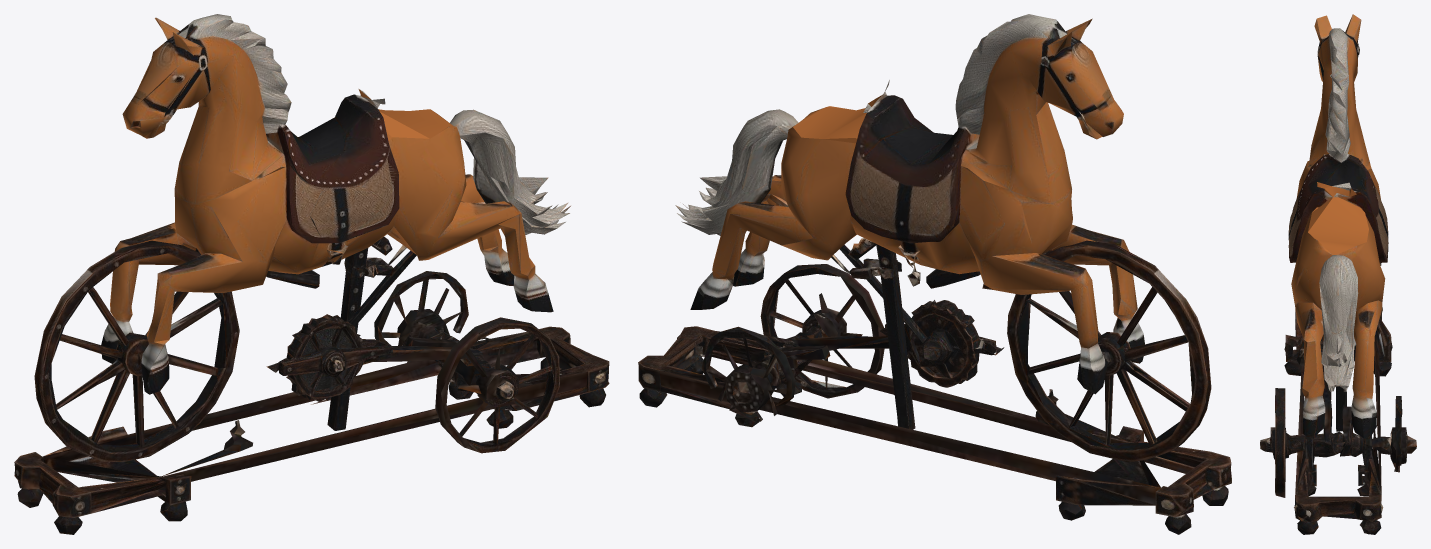
File: mj-gym-electric-horse.glb
The picture shows the model from 3 angles, left to right: view 1: azimuth 30°, elevation 25°; view 2: azimuth 150°, elevation 25°; view 3: azimuth 270°, elevation 25°; orthographic projection. The views are drawn at different scales.
Visible parts, largest first — view 1: mj-gym-electric-horse; view 2: mj-gym-electric-horse; view 3: mj-gym-electric-horse.
Part boxes in pixels (bbox=[...]): mj-gym-electric-horse: bbox=[14, 14, 609, 534]; mj-gym-electric-horse: bbox=[638, 14, 1231, 534]; mj-gym-electric-horse: bbox=[1260, 14, 1416, 534].
Size of the model in its own units: 1.84 by 1.5 by 0.5803.
Materials: 1 (1 with a texture image).
